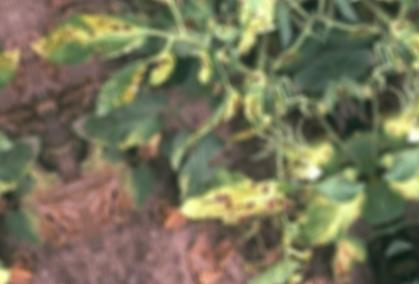Tomato Early blight leaf: (37, 0, 158, 85), (83, 40, 184, 121), (180, 169, 292, 241), (193, 0, 302, 69), (166, 90, 252, 166)
